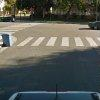Crosswalk: (15, 28, 99, 58)
